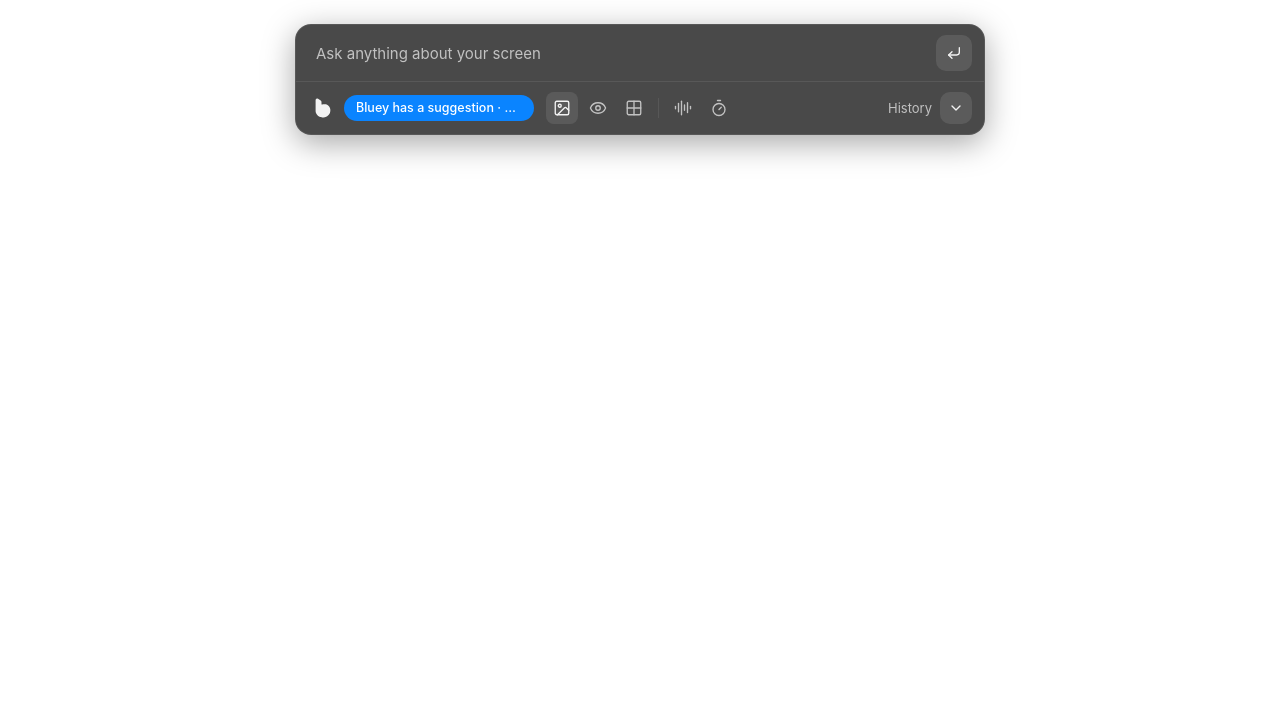
Scenario: HUD shortcut hints follow Settings → Keybinds (UX-026) › the suggestion pill names the saved Generate binding and shows the prepared answer on click
Step 1. Click the button with aria-label "Show Bluey's suggestion" → {"x": 439, "y": 108}, box [344, 95, 534, 121]
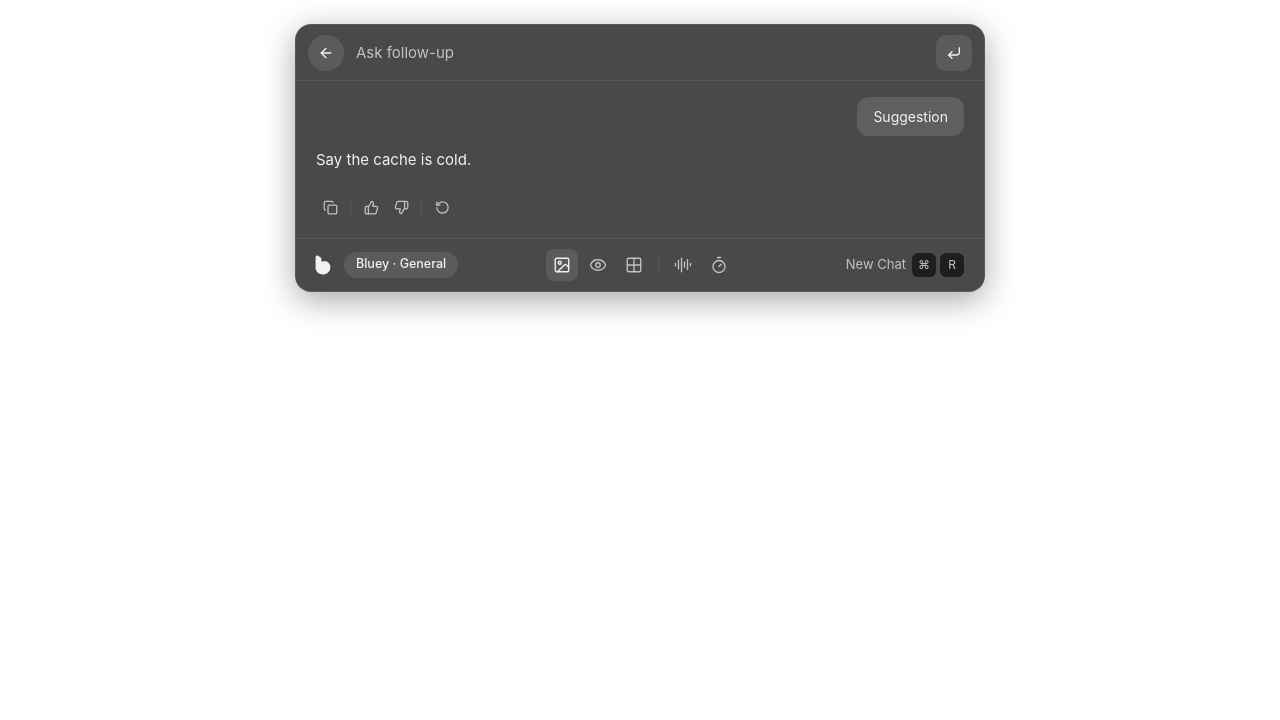
Result: the text "Say the cache is cold." is shown at [316, 150, 471, 169]
